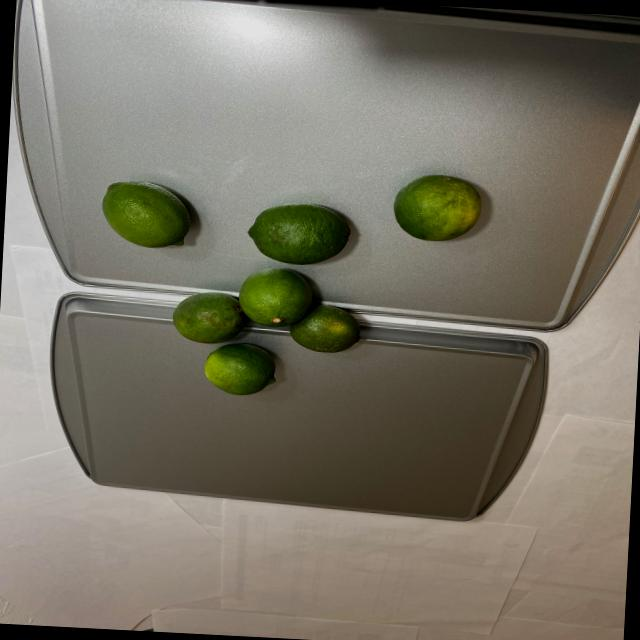lemon: (92, 160, 490, 410)
